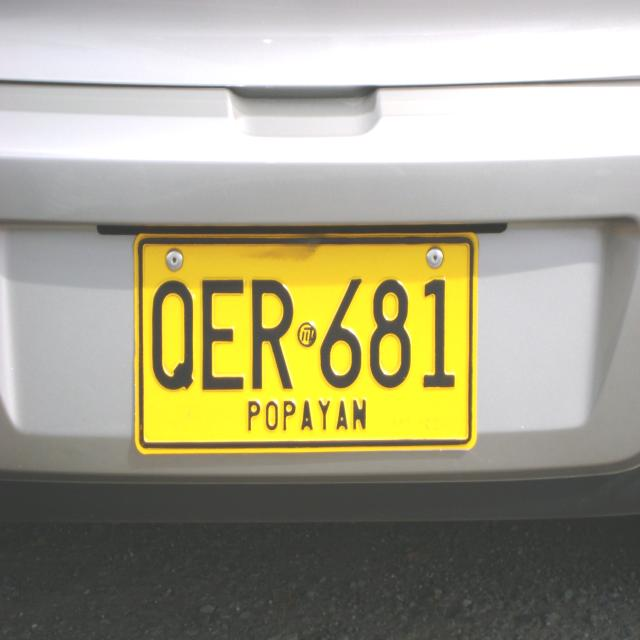placa: (129, 223, 485, 461)
